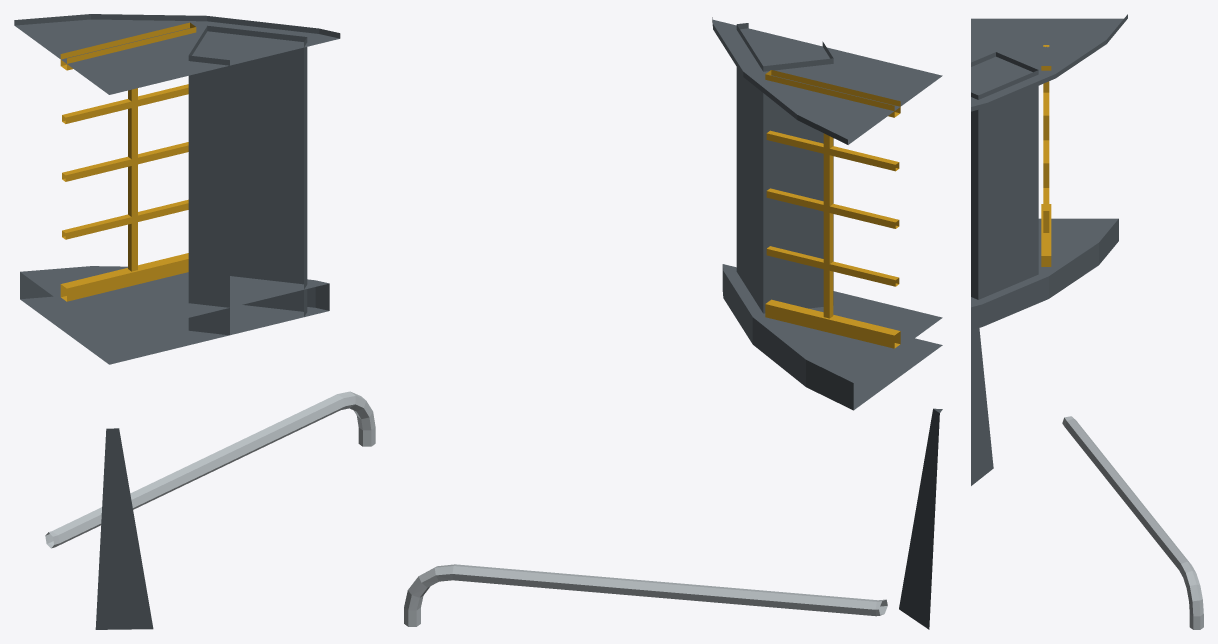
Rendered from cell_33.obj.
3 renders of one model, left to right at view 1: azimuth 30°, elevation 25°; view 2: azimuth 150°, elevation 25°; view 3: azimuth 270°, elevation 25°, orthographic. The views are drawn at different scales.
Size of the model in its own units: 0.7621 by 1 by 0.464.
